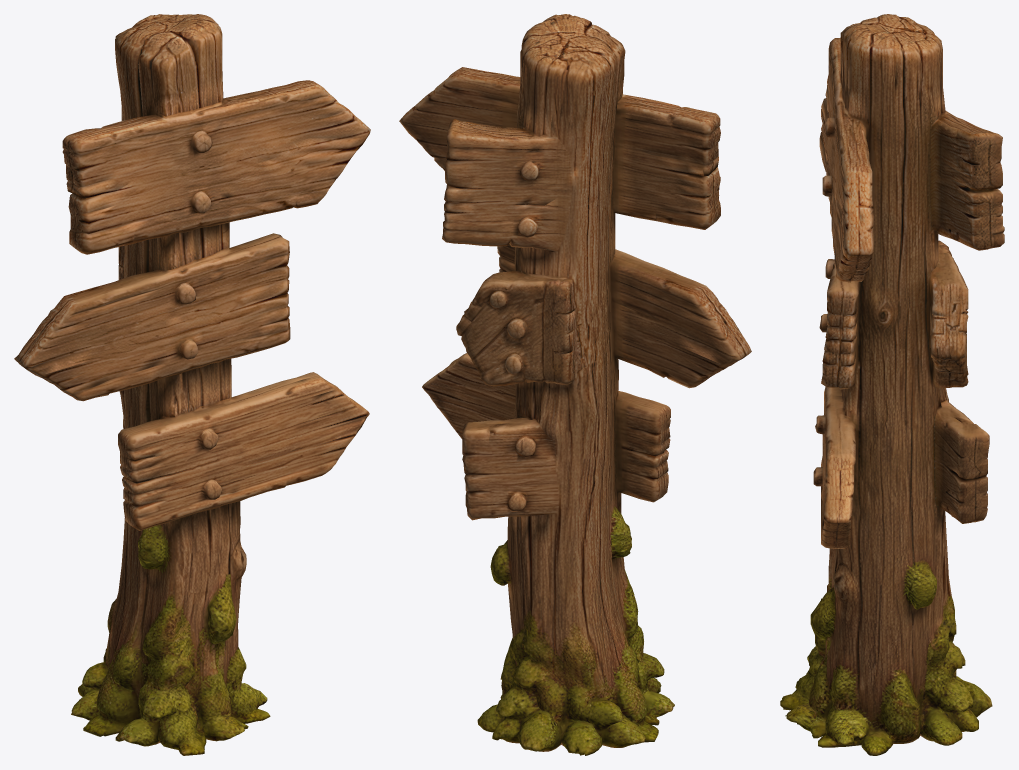
Rendered from Azure_manta_Azure_manta_basecolor.jpg.import.glb.
3 renders of one model, left to right at view 1: azimuth 30°, elevation 25°; view 2: azimuth 150°, elevation 25°; view 3: azimuth 270°, elevation 25°, orthographic.
Parts seen in each view (by area): view 1: tripo_node_ad359a70-75f7-498d-8fda-2cfda724caed; view 2: tripo_node_ad359a70-75f7-498d-8fda-2cfda724caed; view 3: tripo_node_ad359a70-75f7-498d-8fda-2cfda724caed.
Boxes of the visible parts, x1,y1,x2,y2 form: tripo_node_ad359a70-75f7-498d-8fda-2cfda724caed: [14, 14, 370, 755]; tripo_node_ad359a70-75f7-498d-8fda-2cfda724caed: [399, 14, 751, 755]; tripo_node_ad359a70-75f7-498d-8fda-2cfda724caed: [780, 14, 1004, 755].
Size of the model in its own units: 0.5112 by 0.9784 by 0.2853.
Materials: 1 (1 with a texture image).
